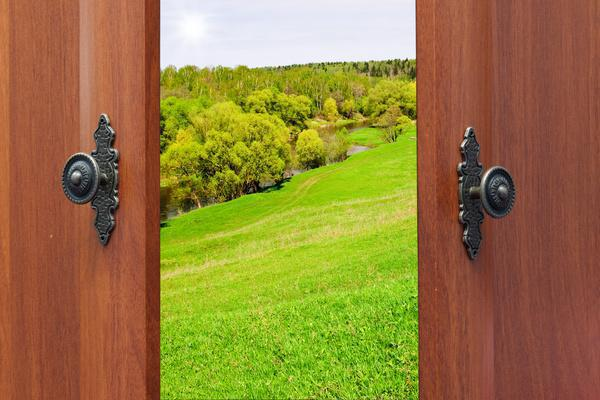doorhandle: (46, 112, 133, 223), (442, 143, 521, 242)
